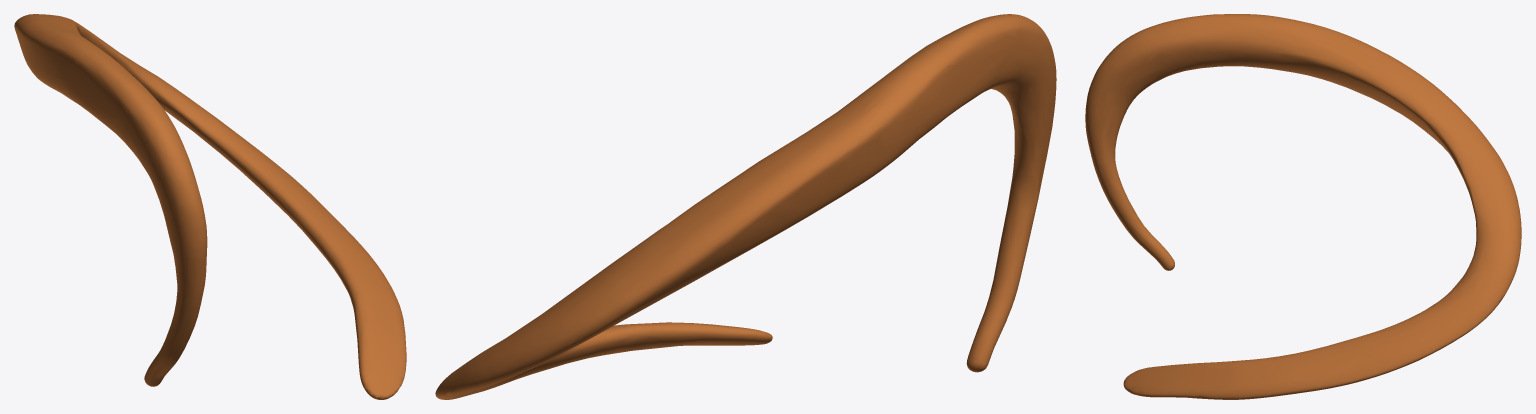
The model's file is Fornix_left.glb.
The picture shows the model from 3 angles, left to right: view 1: azimuth 30°, elevation 25°; view 2: azimuth 150°, elevation 25°; view 3: azimuth 270°, elevation 25°; orthographic projection. The views are drawn at different scales.
Parts seen in each view (by area): view 1: Fornix.l_grp1.099; view 2: Fornix.l_grp1.099; view 3: Fornix.l_grp1.099.
Part boxes in pixels (x1,y1,x2,y2): Fornix.l_grp1.099: [14, 14, 406, 399]; Fornix.l_grp1.099: [435, 14, 1056, 399]; Fornix.l_grp1.099: [1085, 14, 1521, 399].
Bounding box in the file's own units: 0.0305 × 0.0312 × 0.0432.
